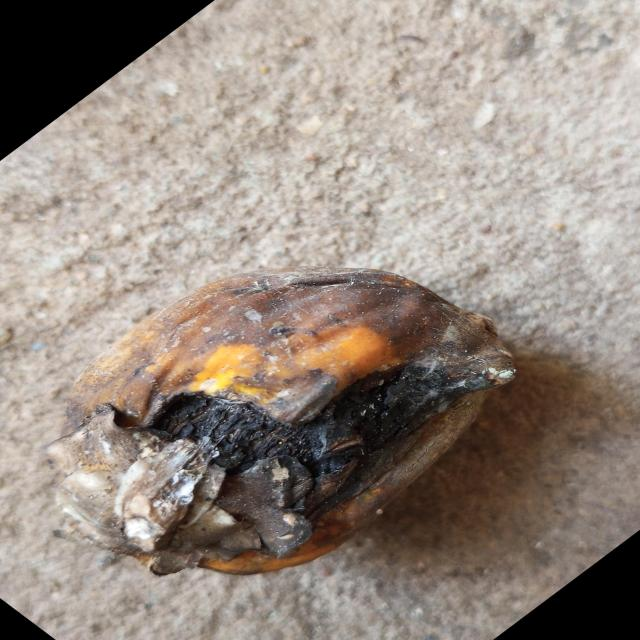damaged: (66, 272, 517, 581)
